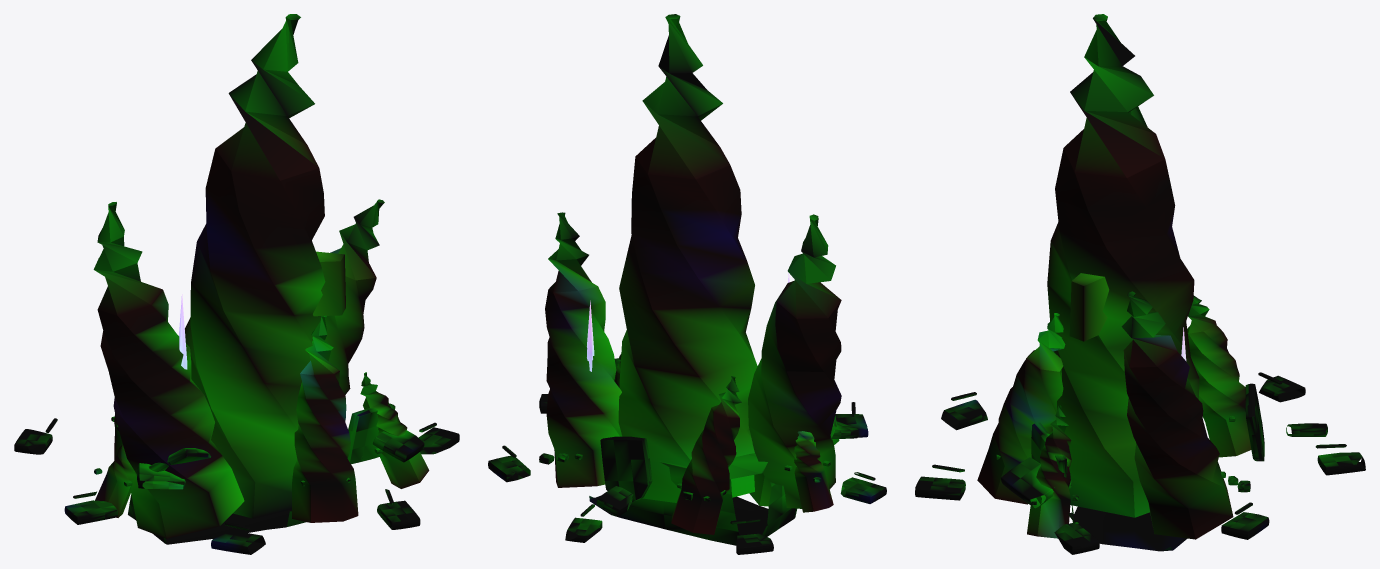
Rendered from aqs002_bell_crystal.glb.
The picture shows the model from 3 angles, left to right: view 1: azimuth 30°, elevation 25°; view 2: azimuth 150°, elevation 25°; view 3: azimuth 270°, elevation 25°; orthographic projection. The views are drawn at different scales.
Parts seen in each view (by area): view 1: BellCrystal; view 2: BellCrystal; view 3: BellCrystal.
Boxes of the visible parts, x1,y1,x2,y2 form: BellCrystal: (14,14,459,554); BellCrystal: (488,14,886,554); BellCrystal: (915,14,1365,554).
Size of the model in its own units: 1.6 by 2.05 by 1.64.
